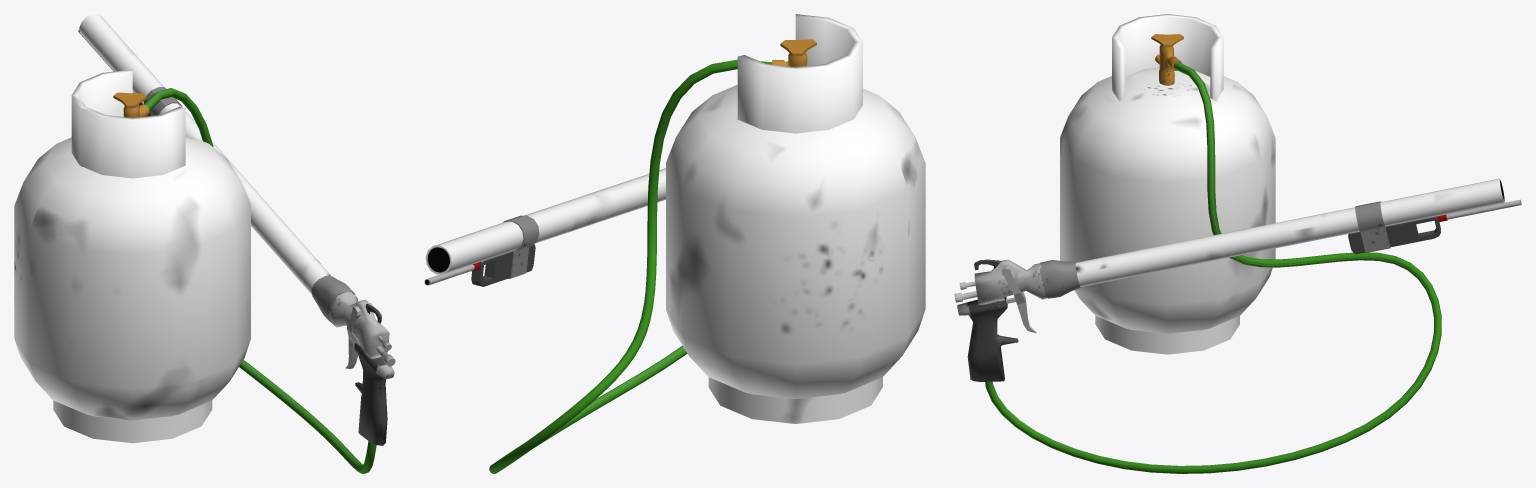
The model's file is flamethrower.fbx.
3 renders of one model, left to right at view 1: azimuth 30°, elevation 25°; view 2: azimuth 150°, elevation 25°; view 3: azimuth 270°, elevation 25°, orthographic. The views are drawn at different scales.
Parts seen in each view (by area): view 1: polySurface15; view 2: polySurface15; view 3: polySurface15.
Boxes of the visible parts, box(x1,y1,x2,y2) form: polySurface15: box(14, 14, 395, 473); polySurface15: box(424, 14, 925, 473); polySurface15: box(954, 14, 1521, 473).
Size of the model in its own units: 23.36 by 28.82 by 42.2.
1 material, 1 textured.
